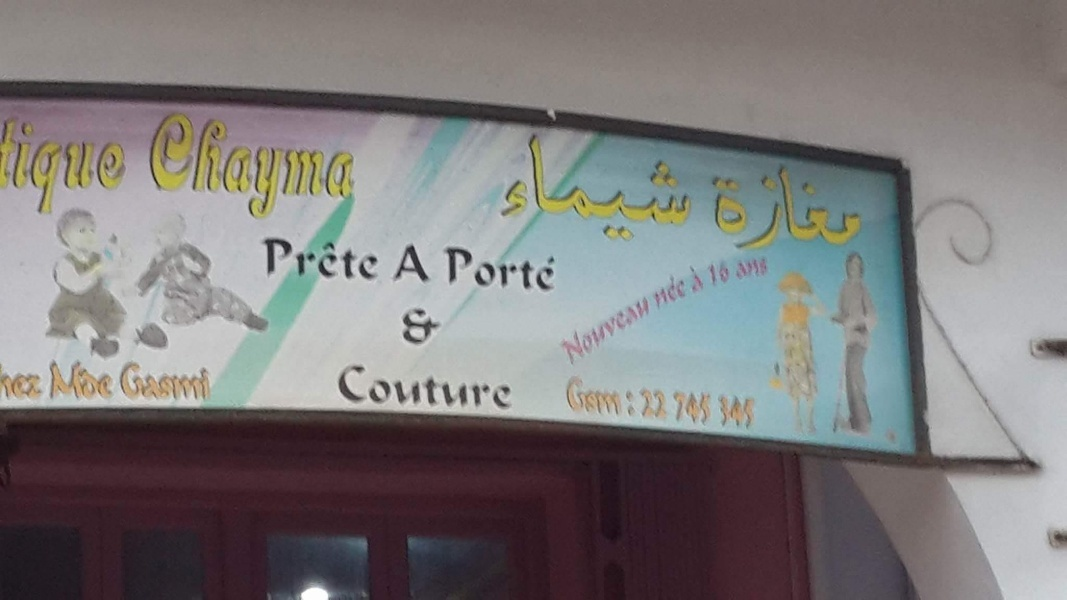text: (497, 129, 512, 250), (513, 129, 528, 250), (529, 129, 544, 250), (545, 129, 560, 250), (561, 129, 576, 250), (577, 129, 592, 250), (593, 129, 608, 250), (609, 129, 624, 250), (625, 129, 640, 250), (641, 129, 656, 250), (657, 129, 672, 250), (673, 129, 688, 250), (161, 109, 176, 225), (177, 109, 192, 225), (193, 109, 208, 225), (209, 109, 224, 225), (225, 109, 240, 225), (241, 109, 256, 225), (257, 109, 272, 225), (273, 109, 288, 225), (289, 109, 304, 225), (305, 109, 320, 225), (321, 109, 336, 225), (337, 109, 352, 225), (1, 111, 16, 219), (17, 111, 32, 219), (33, 111, 48, 219), (49, 111, 64, 219), (65, 111, 80, 219), (81, 111, 96, 219), (97, 111, 112, 219), (113, 111, 128, 219), (705, 158, 720, 254), (721, 158, 736, 254), (737, 158, 752, 254), (753, 158, 768, 254), (769, 158, 784, 254), (785, 158, 800, 254), (801, 158, 816, 254), (817, 158, 832, 254), (833, 158, 848, 254), (849, 158, 864, 254), (148, 109, 160, 225), (561, 286, 576, 369), (577, 286, 592, 369), (593, 286, 608, 369), (609, 286, 624, 369), (625, 286, 640, 369), (641, 286, 656, 369), (689, 129, 698, 250), (353, 109, 362, 225), (401, 241, 416, 294), (417, 241, 432, 294), (337, 362, 352, 414), (353, 362, 368, 414), (369, 362, 384, 414), (385, 362, 400, 414), (401, 362, 416, 414), (417, 362, 432, 414), (433, 362, 448, 414), (449, 362, 464, 414), (465, 362, 480, 414), (481, 362, 496, 414), (497, 362, 512, 414), (625, 373, 641, 421), (449, 244, 464, 293), (465, 244, 480, 293), (481, 244, 496, 293), (497, 244, 512, 293), (513, 244, 528, 293), (529, 244, 544, 293), (545, 244, 560, 293), (49, 355, 64, 404), (65, 355, 80, 404), (81, 355, 96, 404), (97, 355, 112, 404), (401, 305, 416, 353), (417, 305, 432, 353), (577, 373, 592, 421), (593, 373, 608, 421), (609, 373, 624, 421), (657, 267, 672, 314), (673, 267, 688, 314), (273, 237, 288, 283), (289, 237, 304, 283), (305, 237, 320, 283), (321, 237, 336, 283), (337, 237, 352, 283), (353, 237, 368, 283), (562, 373, 576, 421), (129, 359, 144, 403), (145, 359, 160, 403), (161, 359, 176, 403), (177, 359, 192, 403), (193, 359, 208, 403), (17, 362, 32, 406), (33, 362, 48, 406), (641, 380, 656, 422), (2, 362, 16, 406), (721, 255, 737, 293), (689, 257, 704, 297), (369, 237, 382, 283), (657, 380, 671, 422), (673, 387, 688, 426), (689, 387, 704, 426), (721, 391, 736, 430), (737, 391, 752, 430), (705, 255, 720, 293), (737, 250, 752, 288), (753, 250, 768, 288), (644, 267, 656, 314), (116, 359, 128, 403), (433, 305, 443, 353), (391, 241, 400, 294), (262, 237, 272, 283), (555, 286, 560, 369), (705, 387, 715, 426), (513, 362, 520, 414), (753, 391, 762, 430), (689, 267, 696, 314), (129, 111, 132, 219), (680, 257, 688, 297), (209, 359, 216, 403), (705, 257, 711, 297), (730, 250, 736, 288), (44, 355, 48, 404), (769, 250, 774, 288), (636, 380, 640, 422), (445, 244, 448, 293), (113, 355, 116, 404), (717, 391, 720, 430), (334, 362, 336, 414), (865, 158, 866, 254), (433, 241, 434, 294), (399, 305, 400, 353)
